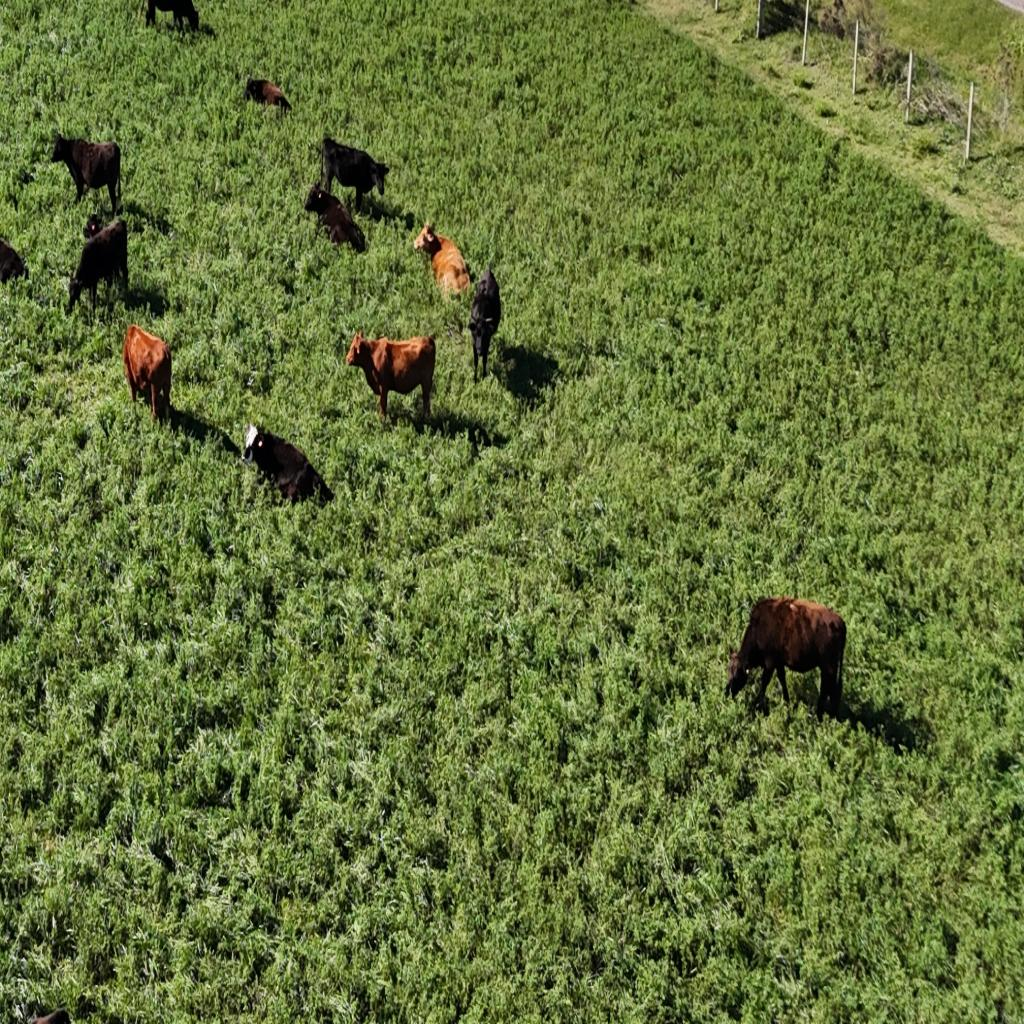cow: (724, 596, 844, 722), (345, 331, 436, 426), (242, 423, 332, 507), (68, 217, 130, 315), (51, 132, 122, 213), (318, 136, 390, 213), (122, 324, 172, 424), (414, 221, 474, 296), (302, 182, 364, 250), (468, 267, 501, 382), (144, 1, 199, 36), (244, 77, 291, 113), (0, 234, 28, 287), (28, 1007, 72, 1024)
